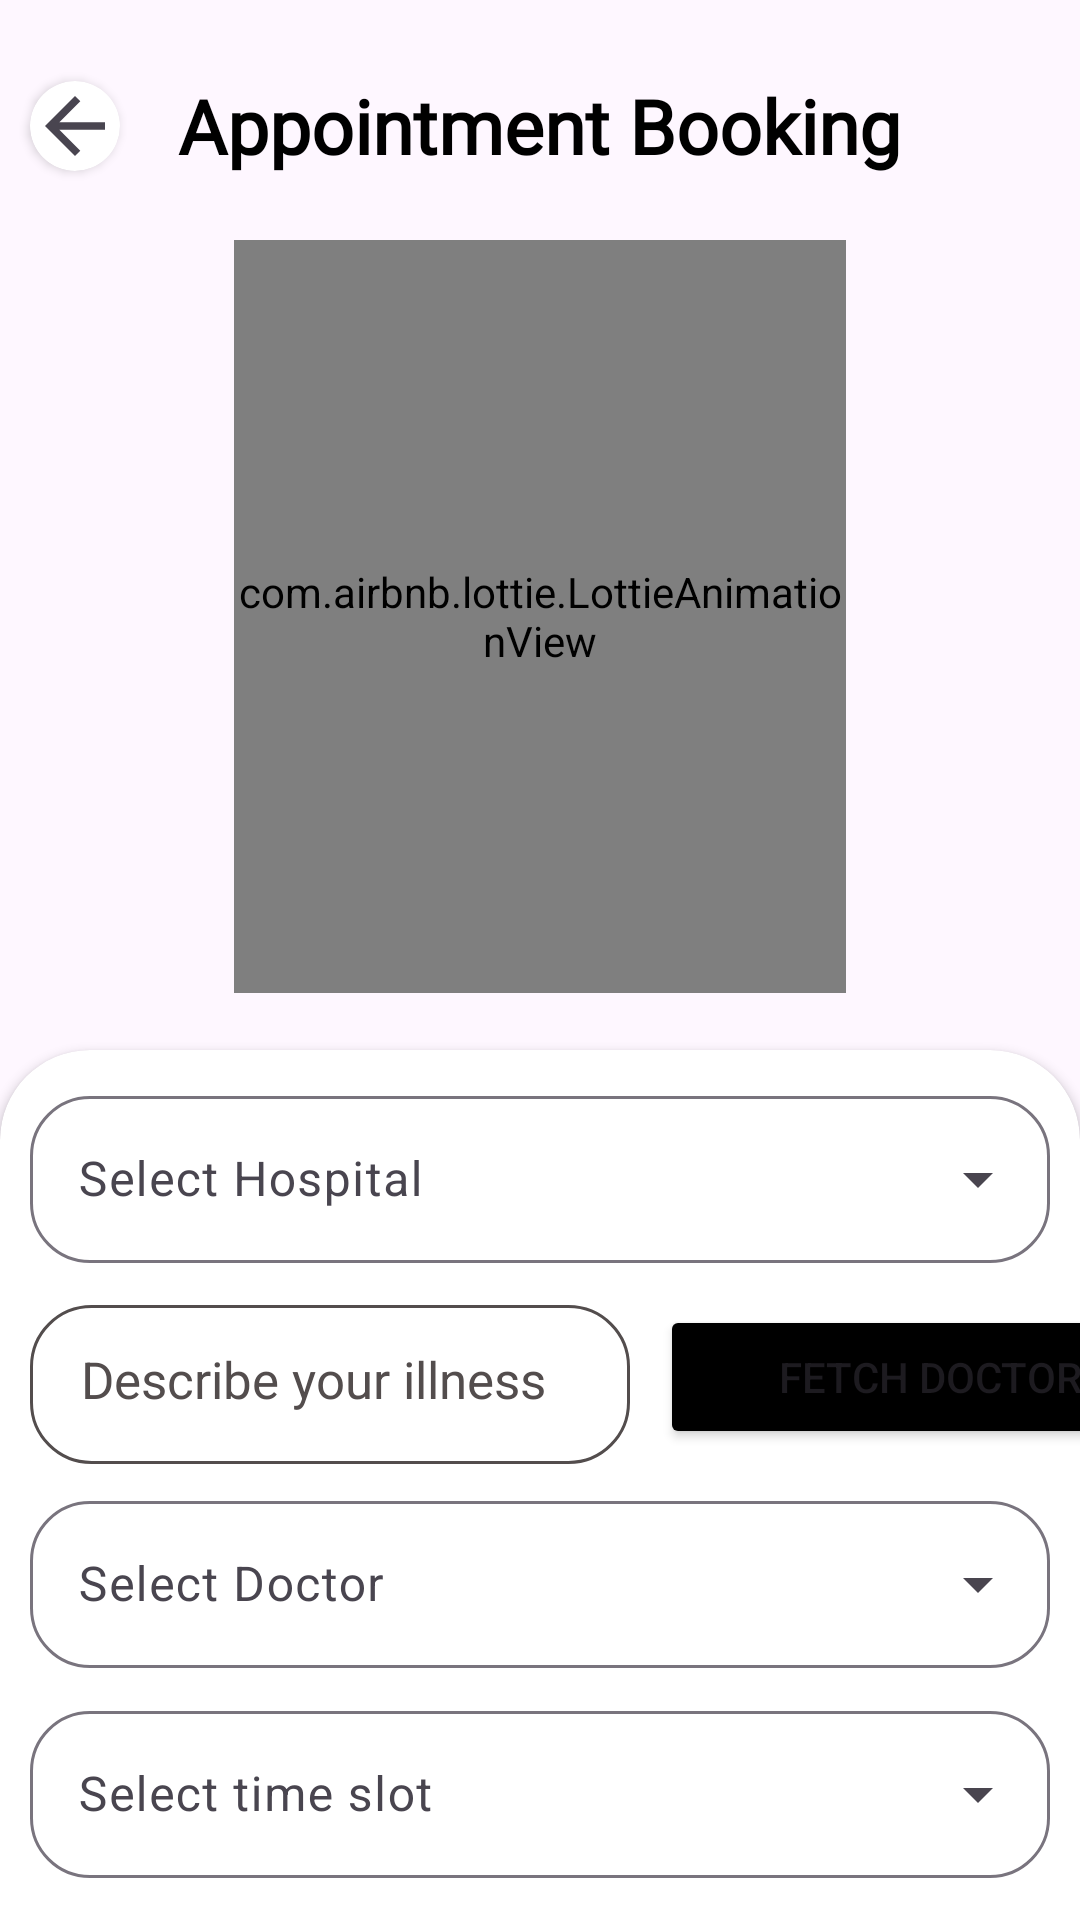

Where icons sit on this 1080×1920 app screen, as box(x1, y1, x2, y2):
backbutton: box(30, 81, 120, 171)
